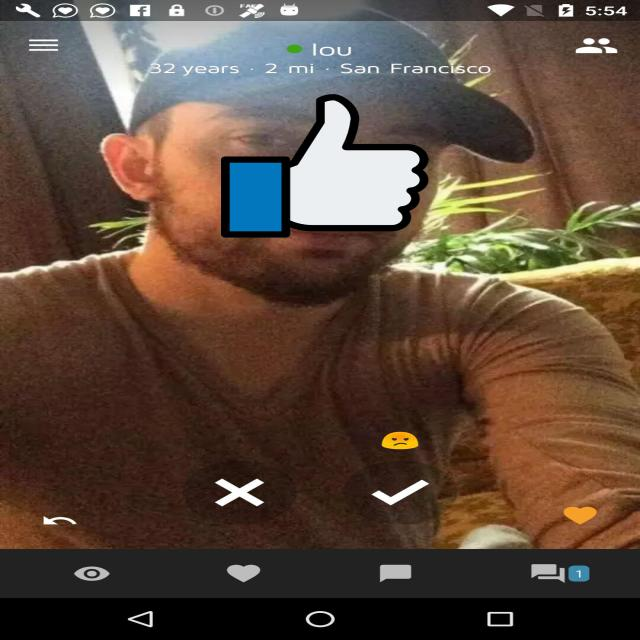privacy zuckering: (221, 91, 428, 241)
